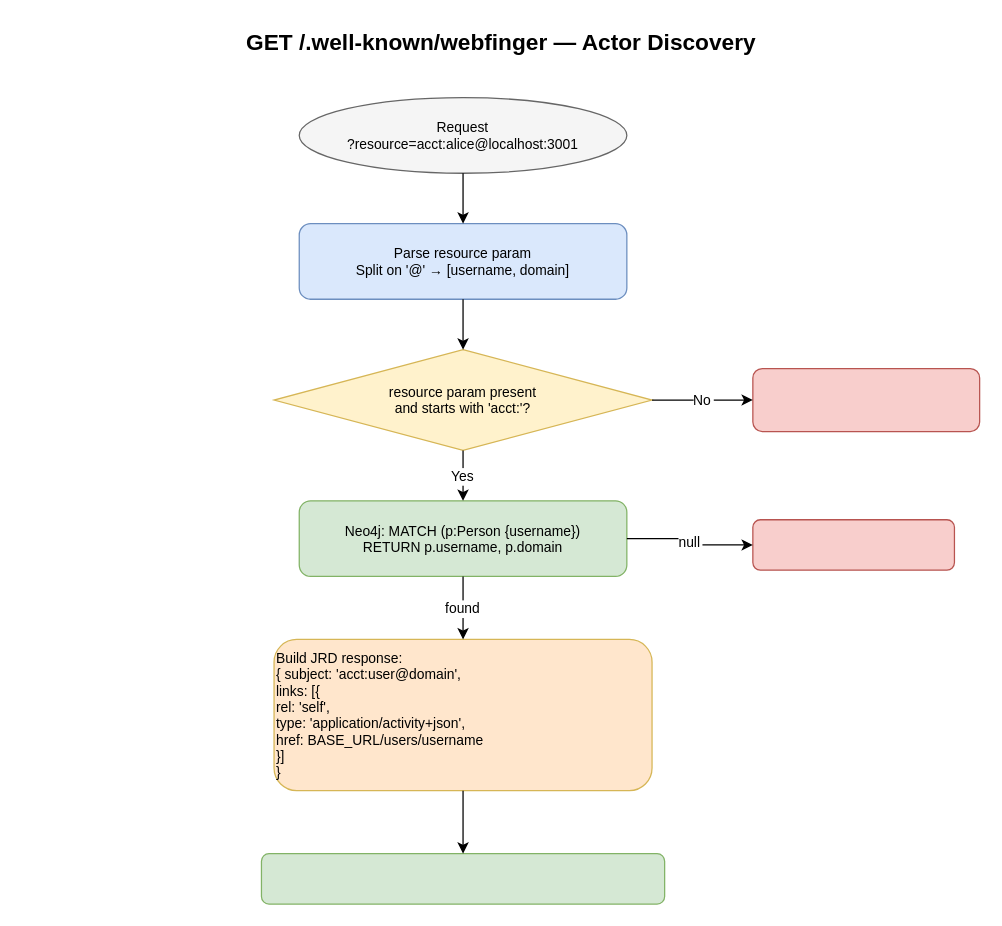
Some shapes in this 1002 by 926 pixel diagram are drawn without their labels. The shapes that lost their labels are listed below. From the top down, each one's box as (x1, y1, x2, y2) in pixels, then its label:
(752, 367, 980, 432): 400 Bad Request 'resource param required'
(752, 518, 954, 570): 404 Not Found
(260, 852, 665, 904): 200 OK — Content-Type: application/jrd+json
